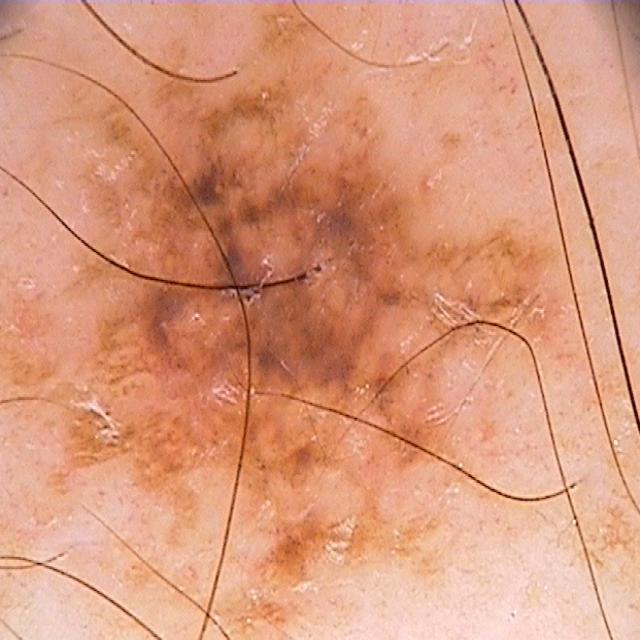Melanoma: (44, 31, 505, 562)
